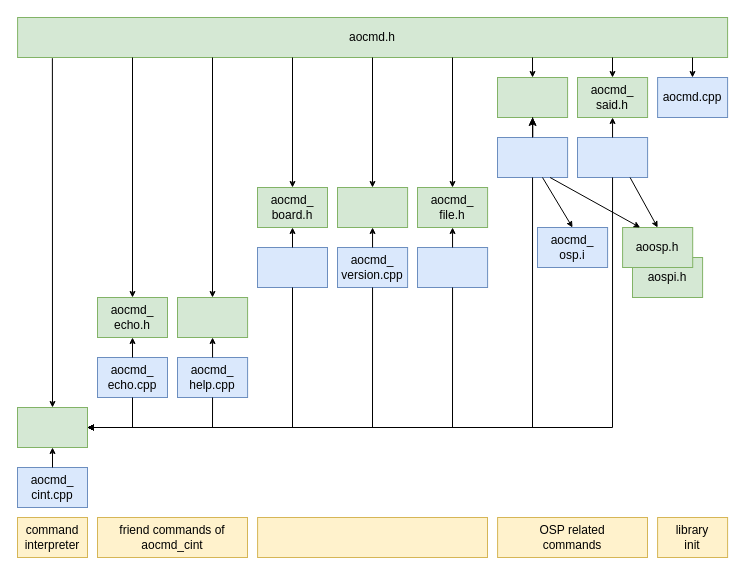
This 746x575 diagram has some shape labels left out. The centre of each missing label's shape, as x and y in pixels:
aocmd_ board.cpp: point 292,267
aocmd_ cint.h: point 52,427
aocmd_ file.cpp: point 452,267
aocmd_ help.h: point 212,317
aocmd_ osp.cpp: point 532,157
aocmd_ osp.h: point 532,97
aocmd_ said.cpp: point 612,157
aocmd_ version .h: point 372,207
generic commands (not OSP related): point 372,537
